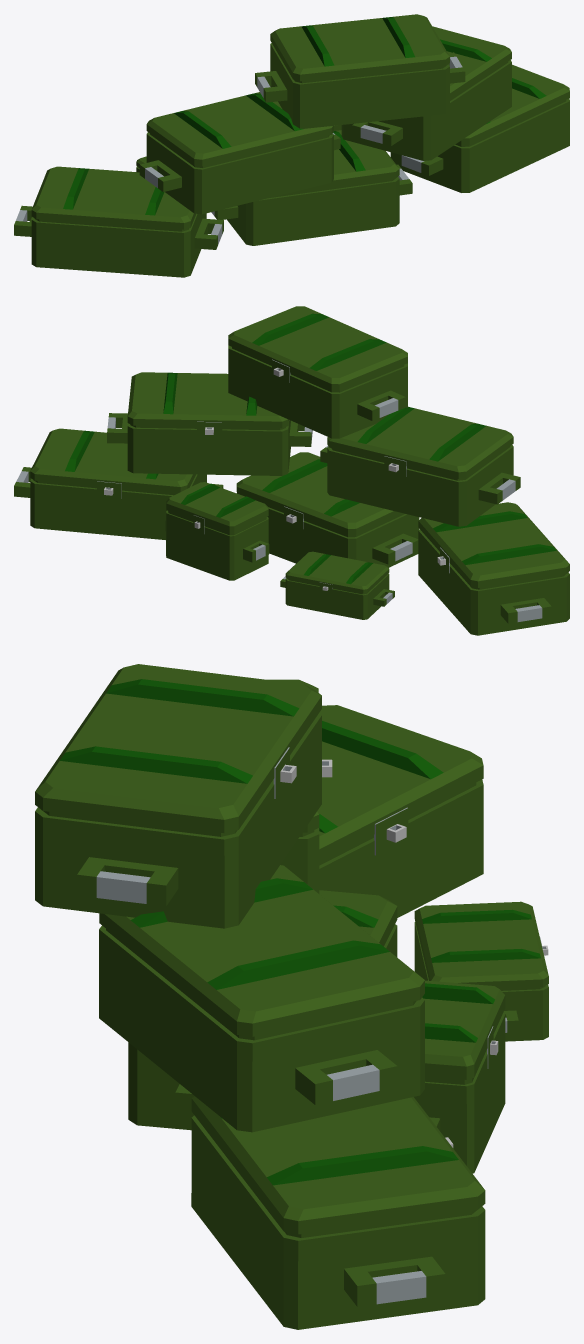
File: Ammo Storage.fbx
3 views of the same model, one above another, from view 1: azimuth 30°, elevation 25°; view 2: azimuth 150°, elevation 25°; view 3: azimuth 270°, elevation 25° (orthographic). The views are drawn at different scales.
Visible parts, largest first — view 1: Ammo Storage; view 2: Ammo Storage; view 3: Ammo Storage.
Part boxes in pixels (left/top/right/bottom): Ammo Storage: left=14, top=14, right=569, bottom=277; Ammo Storage: left=14, top=306, right=569, bottom=635; Ammo Storage: left=35, top=664, right=548, bottom=1329.
Bounding box in the file's own units: 774 × 256 × 320.
